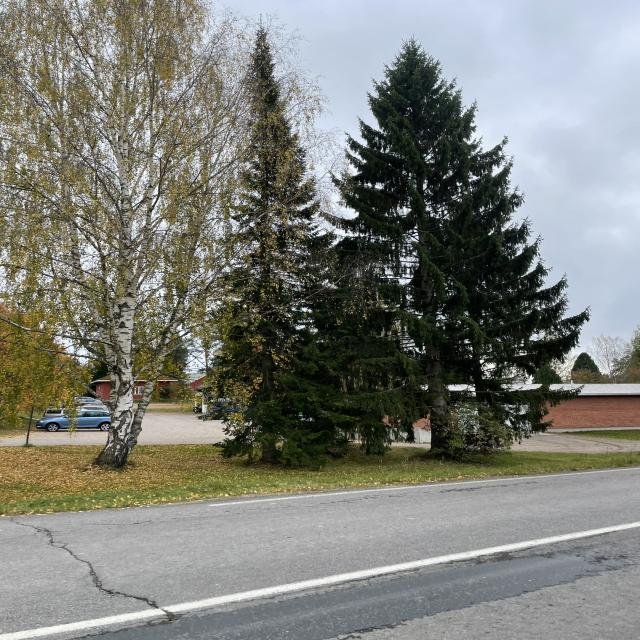spruce: (279, 41, 602, 478), (209, 15, 335, 482), (298, 242, 434, 463)
